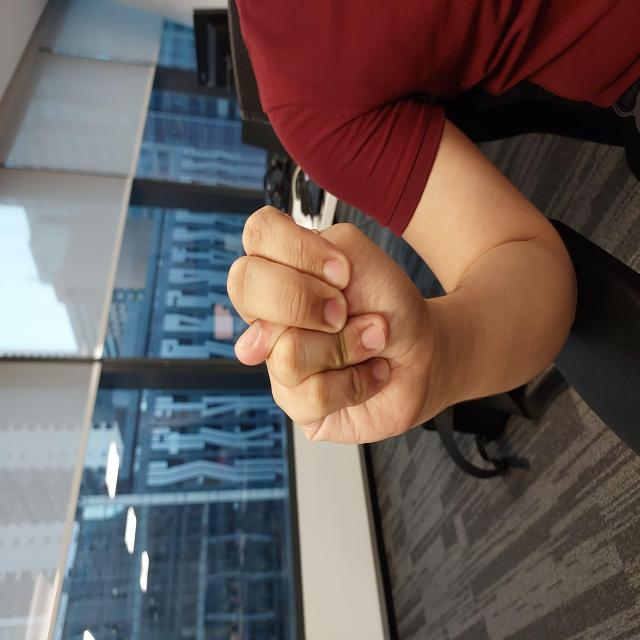N: (193, 226, 439, 440)
